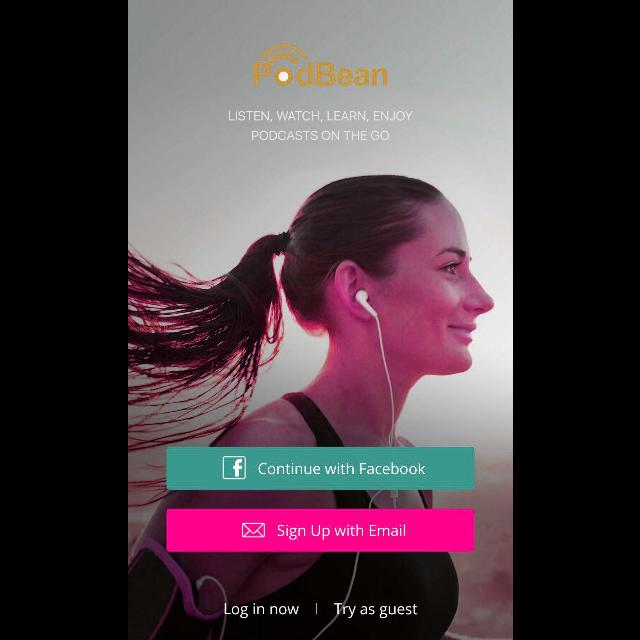backgroundimage: (128, 1, 512, 640)
image: (253, 44, 387, 86)
text: (228, 112, 412, 140), (224, 603, 298, 619), (333, 604, 417, 618)
textbutton: (166, 508, 474, 552), (166, 446, 474, 489)
